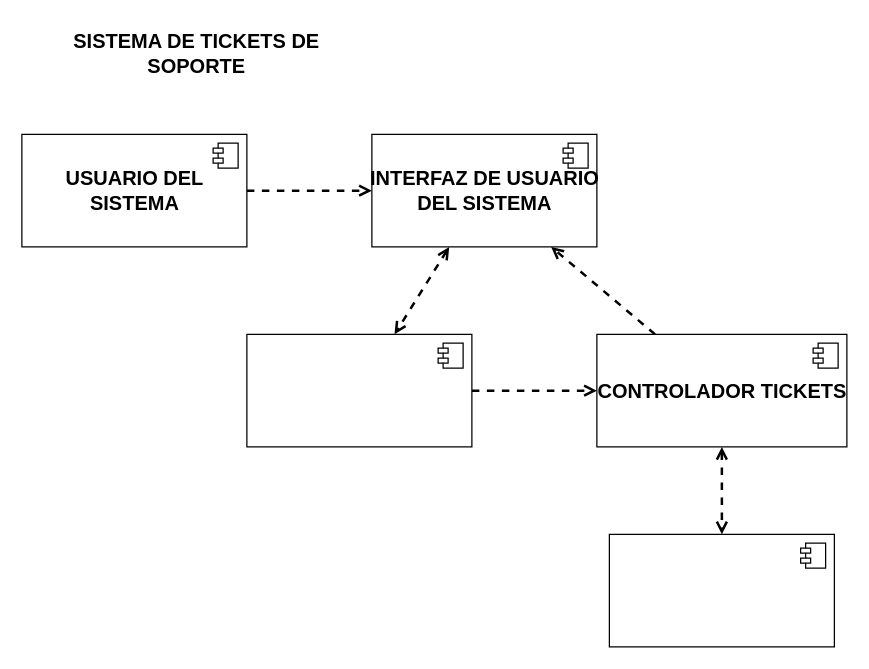
The diagram is 869 pixels wide and 669 high, and some of its shapes have lost their labels. The box of each missing label's shape, as (x1, y1, x2, y2) in pixels:
BASE DE DATOS: (608, 533, 834, 647)
LOGICA DEL SISTEMA: (246, 333, 472, 447)
